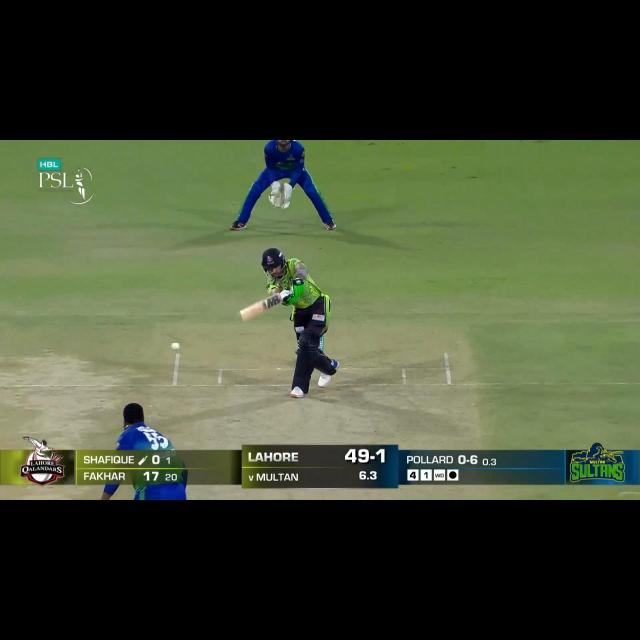bat: (234, 292, 286, 324)
toe: (236, 308, 250, 326)
